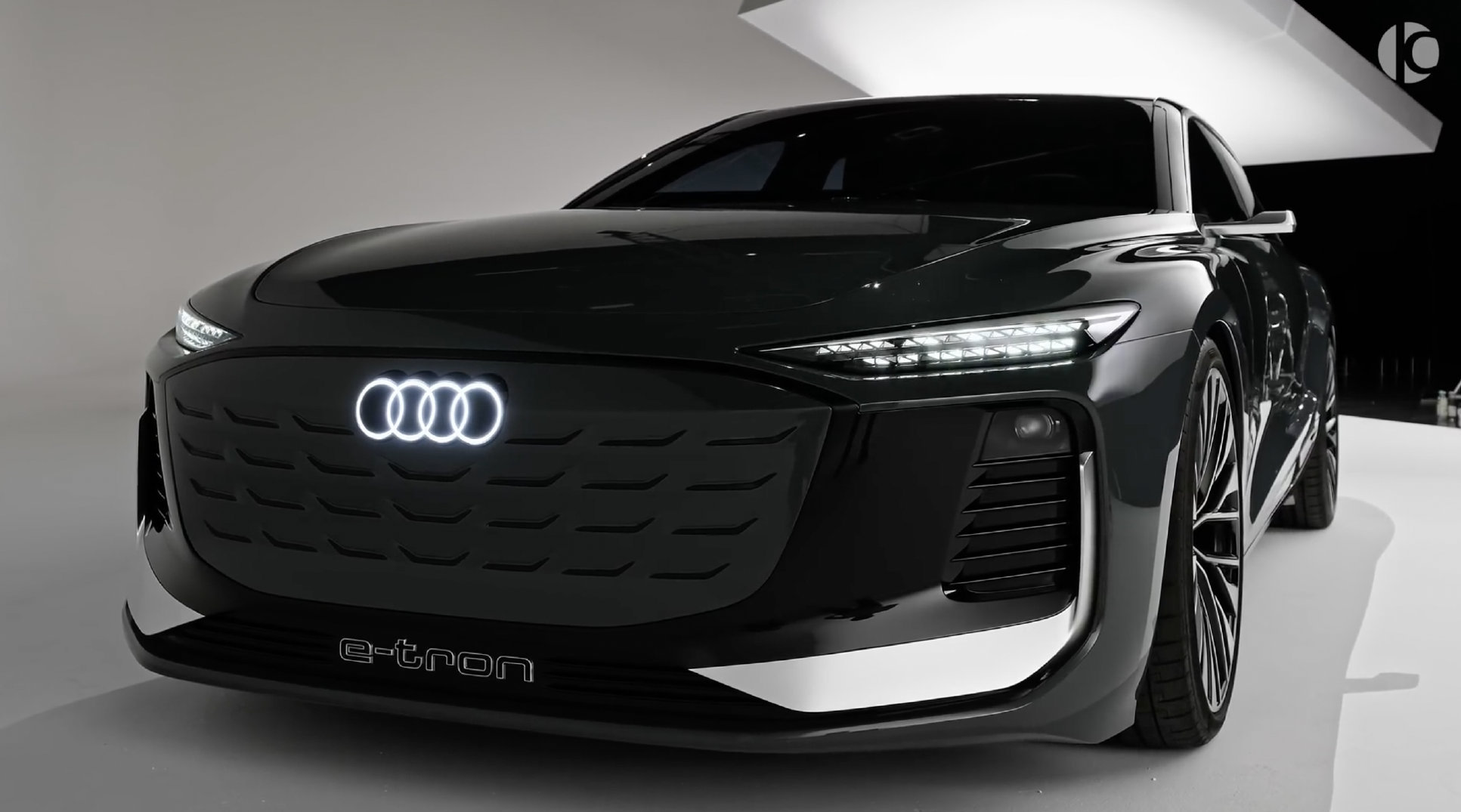other: (112, 91, 1342, 751)
